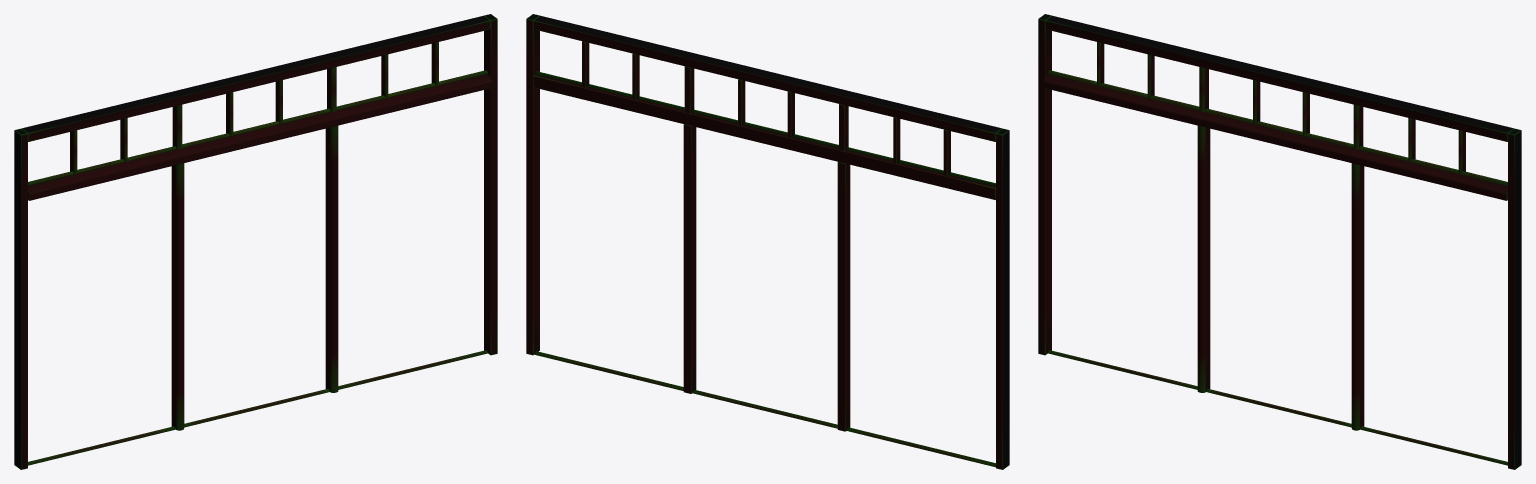
File: window_frame.glb
The picture shows the model from 3 angles, left to right: view 1: azimuth 30°, elevation 25°; view 2: azimuth 150°, elevation 25°; view 3: azimuth 330°, elevation 25°; orthographic projection.
Parts seen in each view (by area): view 1: window_frame; view 2: window_frame; view 3: window_frame.
Boxes of the visible parts, x1,y1,x2,y2 form: window_frame: (14,14,497,469); window_frame: (526,14,1009,469); window_frame: (1038,14,1521,469).
Bounding box in the file's own units: 3.35 × 2.25 × 0.1.
